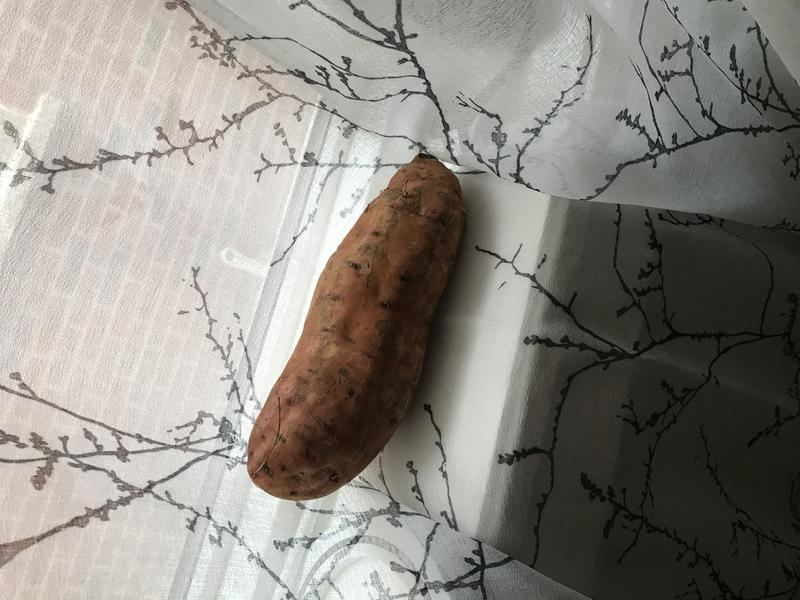sweet_potato: (237, 130, 472, 521)
